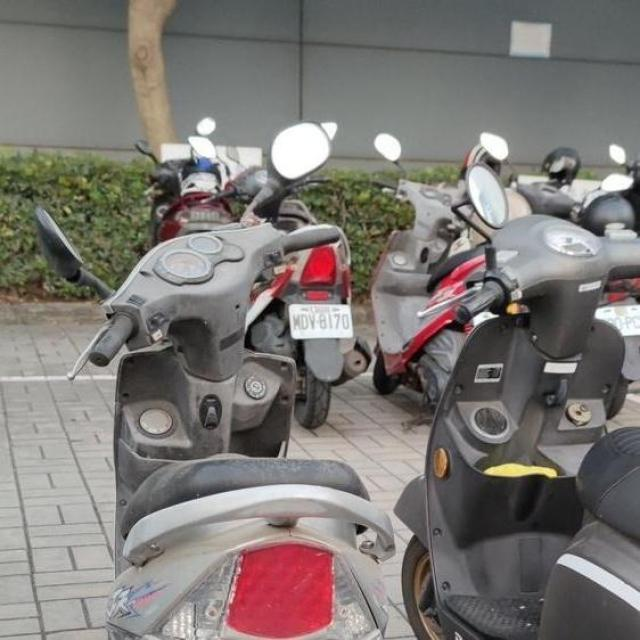W: (286, 296, 357, 346)
